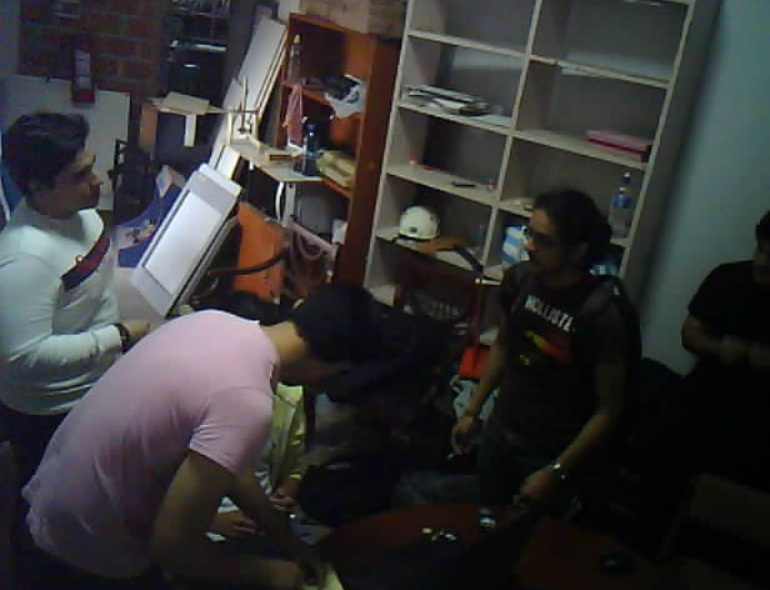person: (0, 288, 400, 590), (428, 153, 653, 531), (0, 116, 153, 526), (671, 165, 770, 470)
